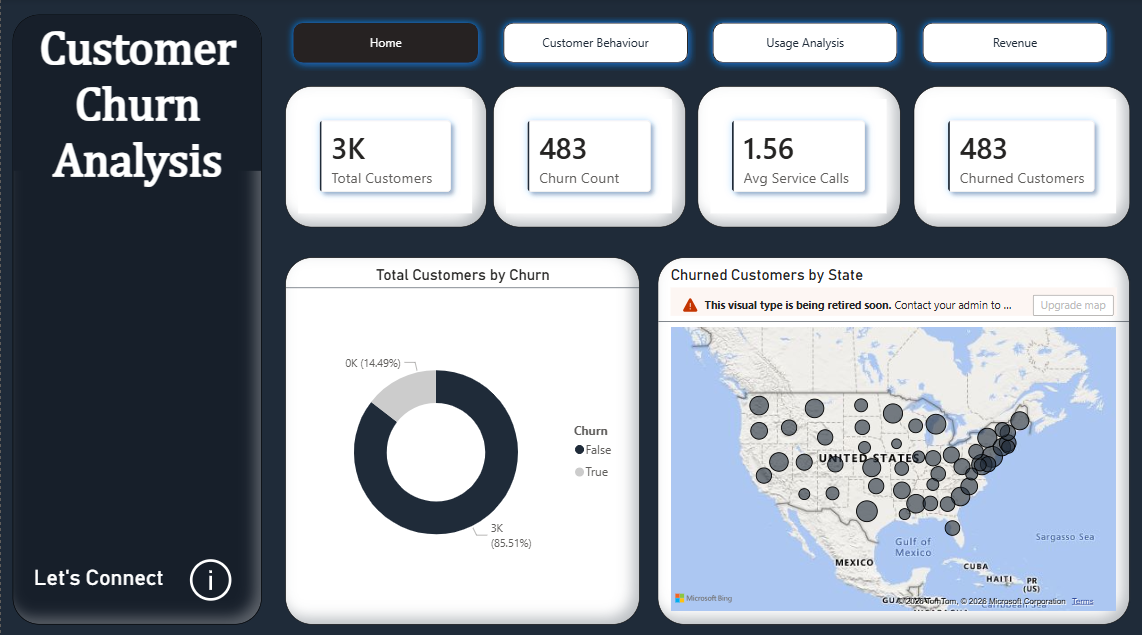

What the dashboard file says about the page in this screenshot:
{"tool":"powerbi","page":{"name":"Home","canvas":[1280,720],"ordinal":0},"visuals":[{"type":"textbox","title":"Customer Churn Analysis ","box":[13,18.6,279.4,683.6],"z":0},{"type":"cardVisual","fields":{"Data":["Churn Prdiction Data 2.Total Customers"]},"box":[318.5,98.7,225.4,158.3],"z":1},{"type":"cardVisual","fields":{"Data":["Churn Prdiction Data 2.Churn Count"]},"box":[551.3,98.7,216.1,158.3],"z":2},{"type":"cardVisual","fields":{"Data":["Churn Prdiction Data 2.Avg Service Calls"]},"box":[780.4,98.7,227.2,158.3],"z":3},{"type":"donutChart","fields":{"Category":["Churn Prdiction Data 2.Churn"],"Y":["Churn Prdiction Data 2.Total Customers"]},"box":[318.5,290.6,396.7,411.6],"z":4},{"type":"map","fields":{"Category":["Churn Prdiction Data 2.State"],"Size":["Churn Prdiction Data 2.Churned Customers"]},"box":[735.7,290.6,529,411.6],"z":5},{"type":"cardVisual","fields":{"Data":["Churn Prdiction Data 2.Churned Customers"]},"box":[1022.6,98.7,242.1,158.3],"z":6},{"type":"pageNavigator","box":[318.5,18.6,933.2,63.3],"z":7},{"type":"actionButton","box":[204.9,618.4,59.6,67.1],"z":8},{"type":"textbox","title":"Let''s Connect","box":[31.7,635.2,173.2,33.5],"z":9}]}

Visuals, with their boxes in screenshot pixels (x1, y1, x2, y2), scaled from the page's 1280x720 canvas onto the 1142x635 screenshot:
"Customer Churn Analysis " textbox: x1=12, y1=16, x2=261, y2=619
cardVisual - Churn Prdiction Data 2.Total Customers: x1=284, y1=87, x2=485, y2=227
cardVisual - Churn Prdiction Data 2.Churn Count: x1=492, y1=87, x2=685, y2=227
cardVisual - Churn Prdiction Data 2.Avg Service Calls: x1=696, y1=87, x2=899, y2=227
donutChart - Churn Prdiction Data 2.Churn x Churn Prdiction Data 2.Total Customers: x1=284, y1=256, x2=638, y2=619
map - Churn Prdiction Data 2.State x Churn Prdiction Data 2.Churned Customers: x1=656, y1=256, x2=1128, y2=619
cardVisual - Churn Prdiction Data 2.Churned Customers: x1=912, y1=87, x2=1128, y2=227
pageNavigator: x1=284, y1=16, x2=1117, y2=72
actionButton: x1=183, y1=545, x2=236, y2=605
"Let''s Connect" textbox: x1=28, y1=560, x2=183, y2=590
